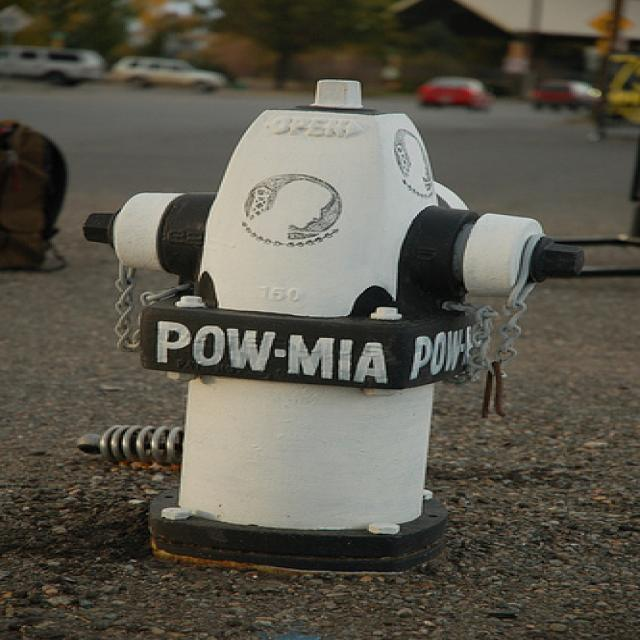fire_hydrant: (76, 80, 586, 574)
